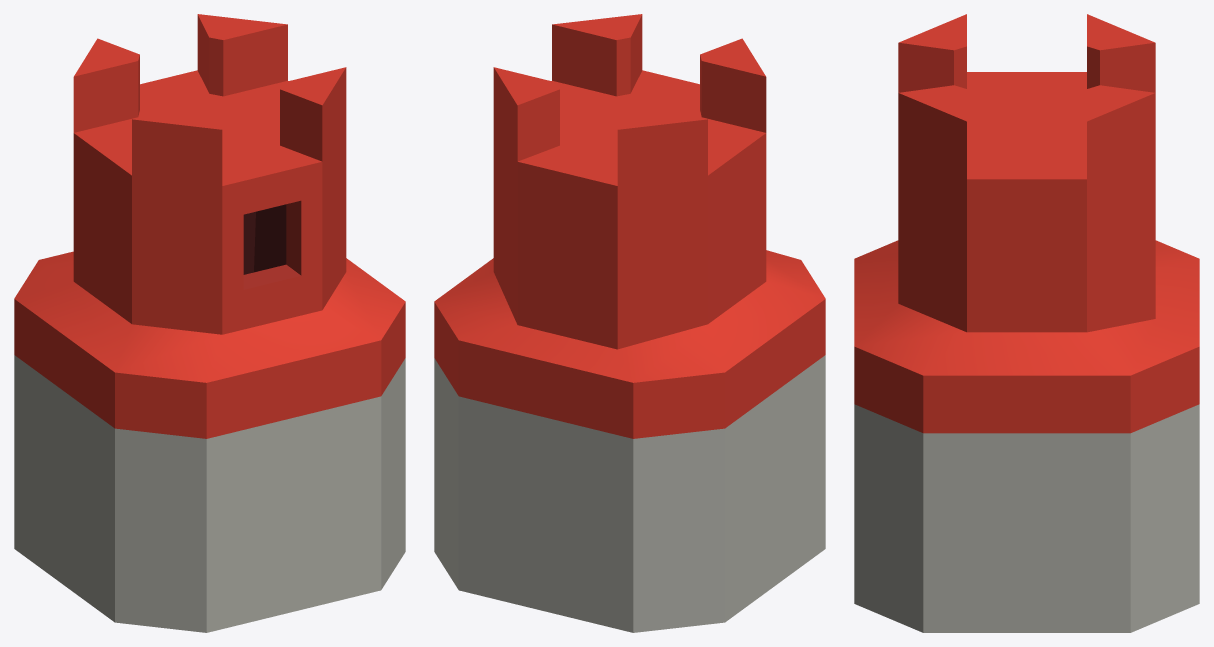
File: FYT_01.FBX
The picture shows the model from 3 angles, left to right: view 1: azimuth 30°, elevation 25°; view 2: azimuth 150°, elevation 25°; view 3: azimuth 270°, elevation 25°; orthographic projection. The views are drawn at different scales.
Visible parts, largest first — view 1: FYT_01; view 2: FYT_01; view 3: FYT_01.
Boxes of the visible parts, box(x1,y1,x2,y2) form: FYT_01: box(14, 14, 405, 632); FYT_01: box(434, 14, 825, 632); FYT_01: box(854, 14, 1199, 632).
Size of the model in its own units: 1.32 by 2.08 by 1.32.
